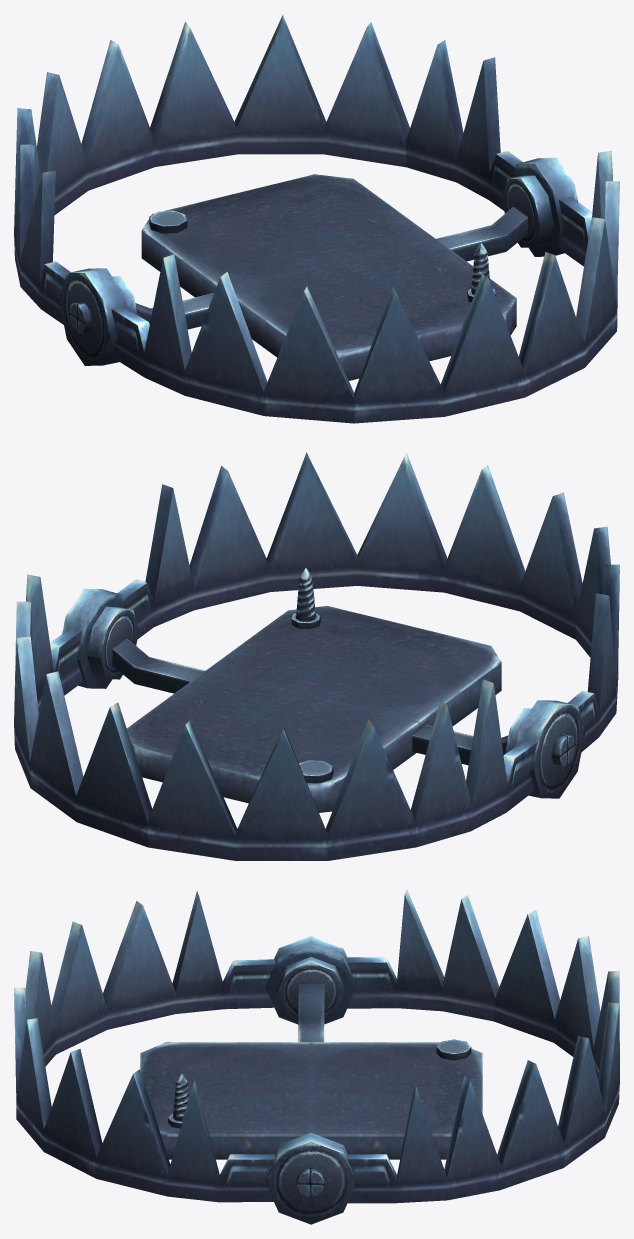
Rendered from BearTrap.fbx.
The picture shows the model from 3 angles, top to bottom: view 1: azimuth 30°, elevation 25°; view 2: azimuth 150°, elevation 25°; view 3: azimuth 270°, elevation 25°; orthographic projection. The views are drawn at different scales.
Parts seen in each view (by area): view 1: C_10014; view 2: C_10014; view 3: C_10014.
Boxes of the visible parts, x1=… form: C_10014: x1=14, y1=14, x2=619, y2=423; C_10014: x1=14, y1=452, x2=619, y2=860; C_10014: x1=14, y1=889, x2=619, y2=1224.
Size of the model in its own units: 0.8637 by 0.2577 by 1.04.
1 material, 1 textured.
